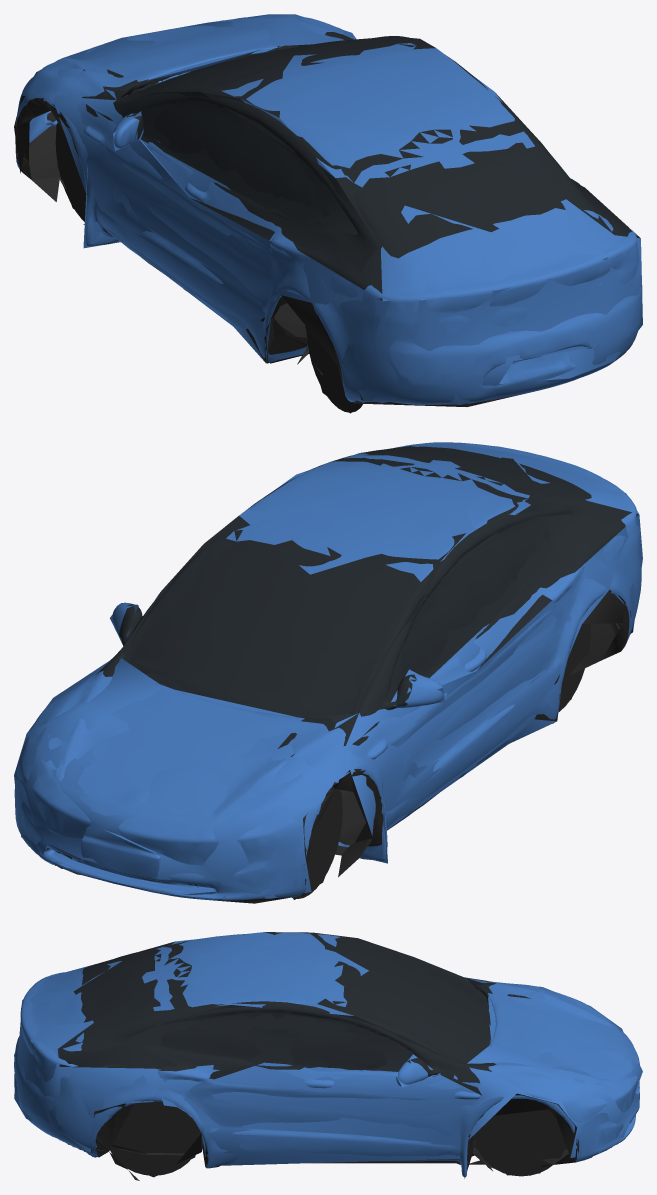
The model's file is tesla-model-3.glb.
The picture shows the model from 3 angles, top to bottom: view 1: azimuth 30°, elevation 25°; view 2: azimuth 150°, elevation 25°; view 3: azimuth 270°, elevation 25°; orthographic projection. The views are drawn at different scales.
Parts seen in each view (by area): view 1: body, far; view 2: body, far; view 3: body, far.
Boxes of the visible parts, x1,y1,x2,y2 form: body: (15, 15, 642, 412); far: (14, 14, 642, 413); body: (14, 442, 641, 903); far: (14, 442, 642, 899); body: (14, 932, 639, 1180); far: (14, 932, 642, 1179).
Size of the model in its own units: 2.18 by 1.48 by 4.79.
